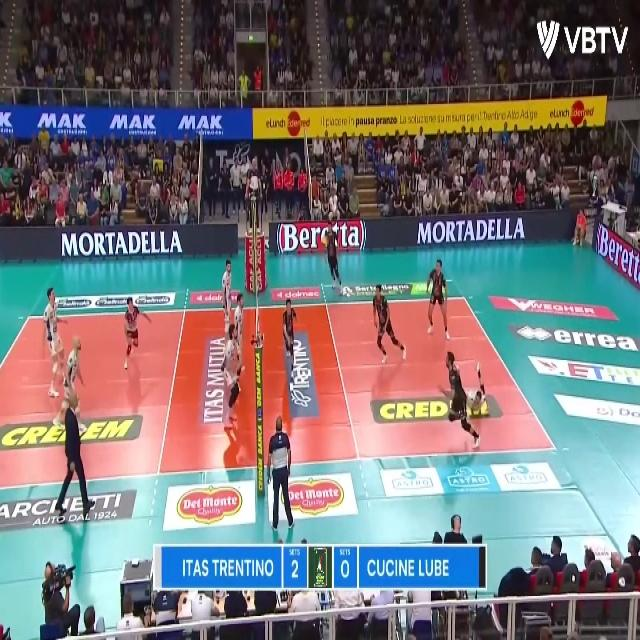volleyball court: (0, 294, 557, 486)
